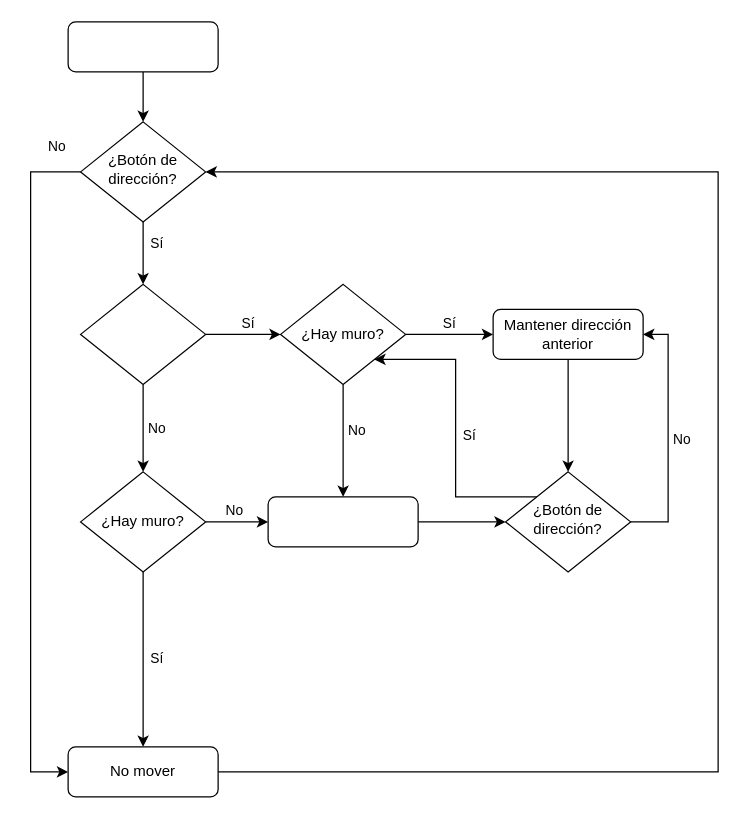
Some shapes in this 750 by 819 pixel diagram are drawn without their labels. The shapes that lost their labels are listed below. From the top down, each one's box as (x1, y1, x2, y2) in pixels, then its label:
(67, 21, 218, 72): Reposo
(79, 283, 206, 384): ¿Está ya en movimiento?
(267, 496, 418, 547): Mover dirección del botón
